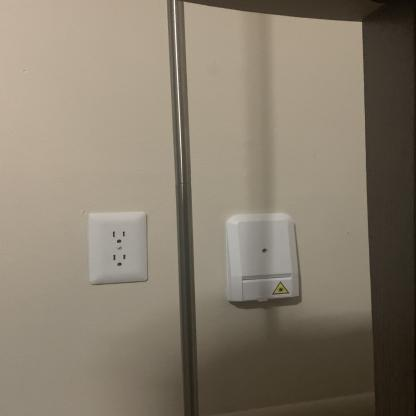OUTLET: (87, 212, 149, 282)
